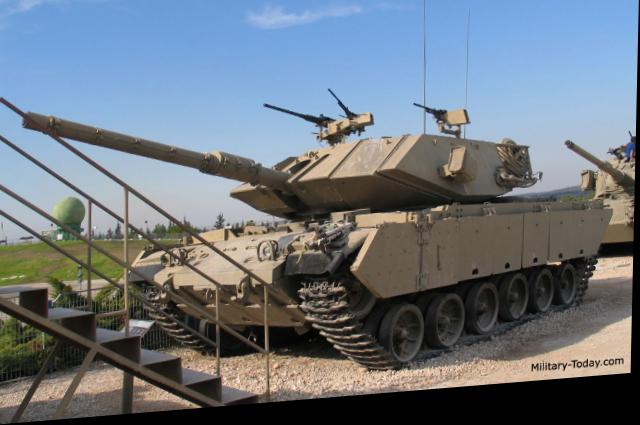tank: (146, 113, 624, 378)
